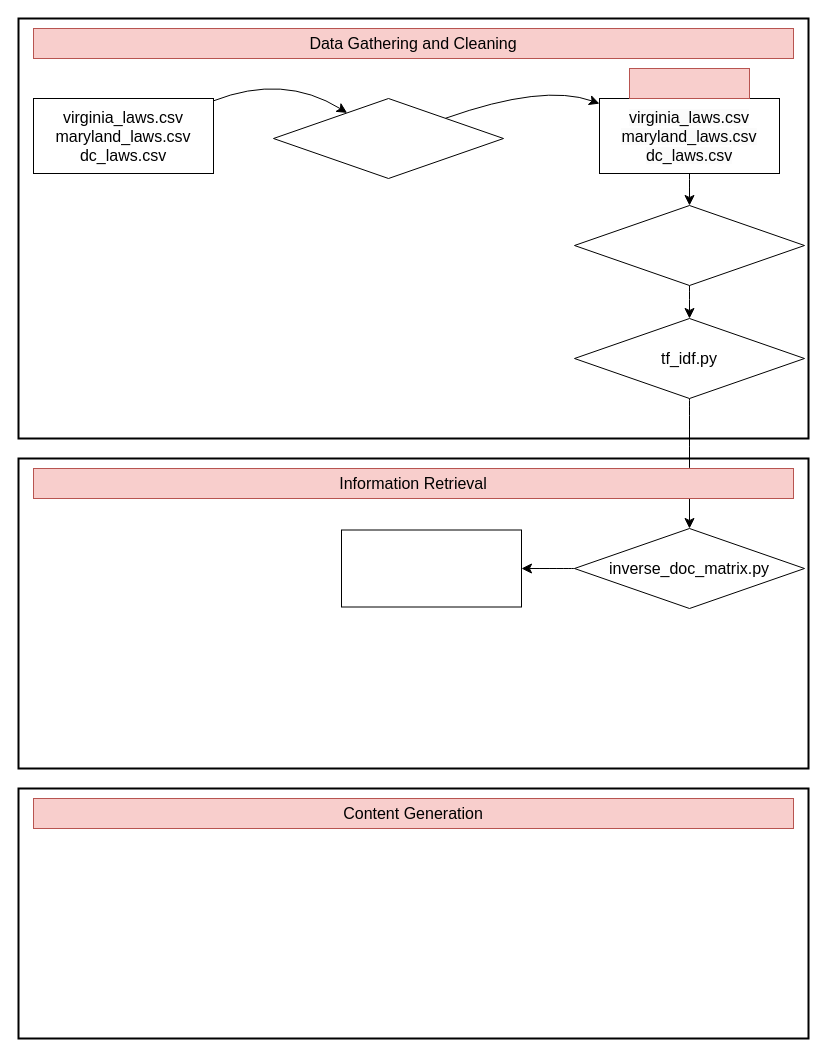
Some shapes in this 826 by 1056 pixel diagram are drawn without their labels. Here are the shapes that lost their labels. From the top down, the centre of each, then its label:
At (689,83): "UPDATED".
At (388,138): "selenium.ipynb".
At (689,245): "law_cleaning.py".
At (431,568): "clean_data.csv".
